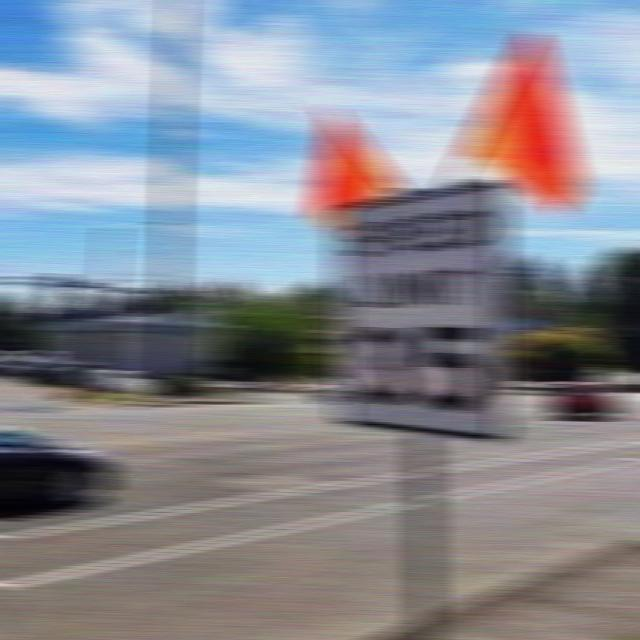speedLimit35: (326, 176, 513, 441)
